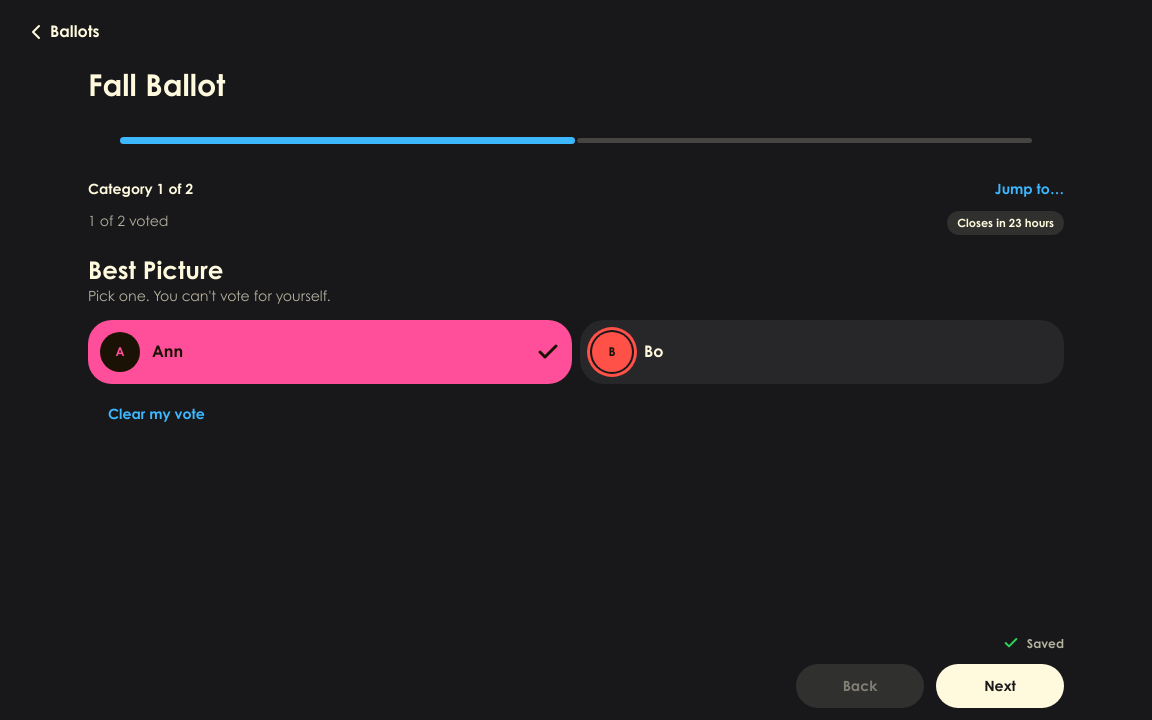
Scenario: VotePage behavior › clear removes the vote
Expected: the element "Best Picture" is shown, 88,255 -> 1064,436
What coordinates should you click on to do the following:
click the button "Clear my vote"
I would click on:
 (156, 414)
Its box is 88,392 -> 225,436.
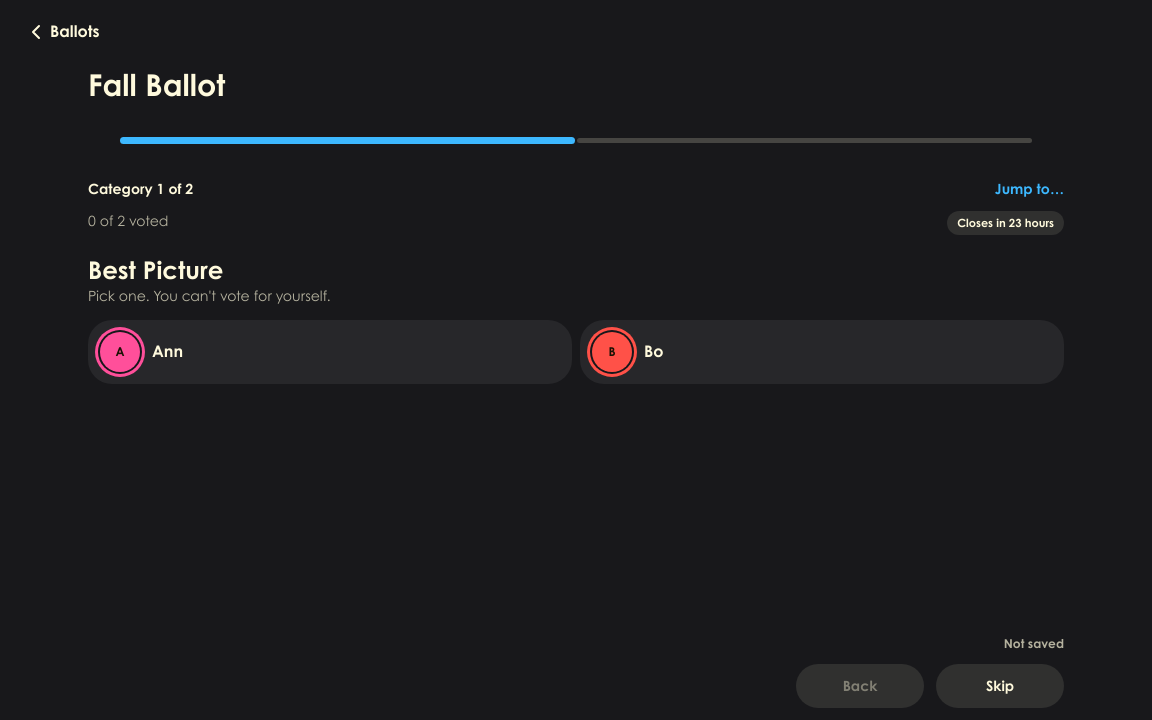
Now the text "0 of 2 voted" is shown, box 88,213 -> 168,233
